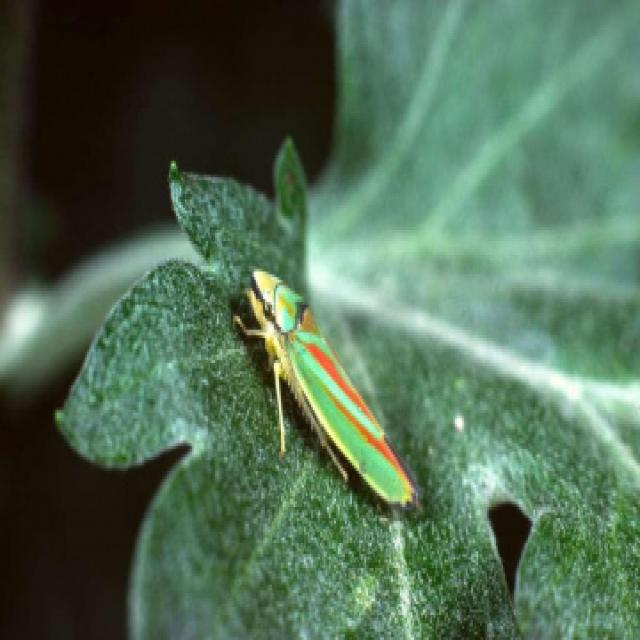Yechan: (244, 246, 426, 532)
